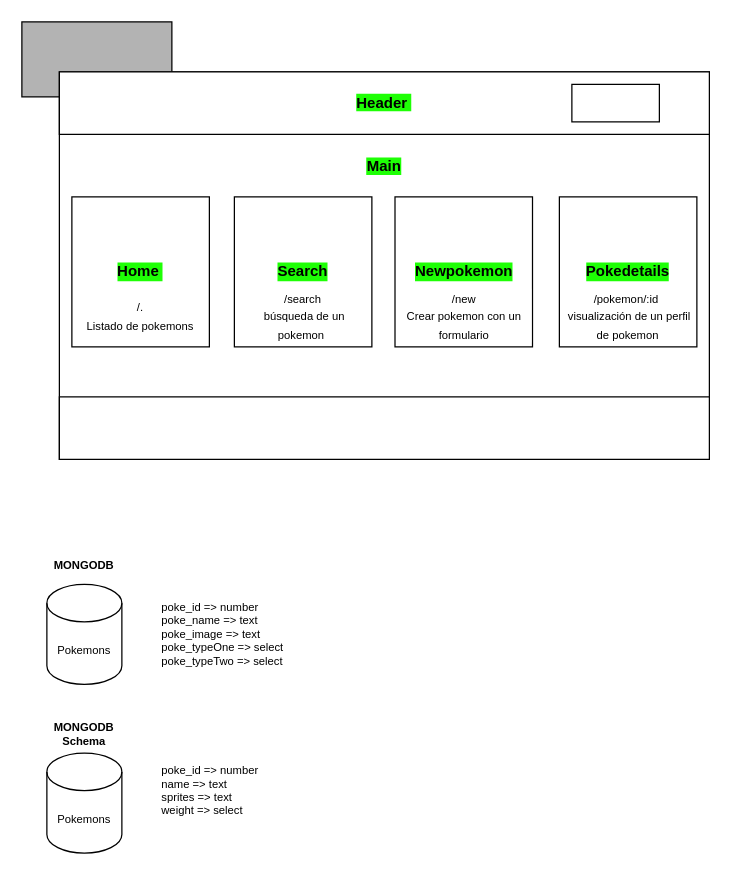
The diagram is 731 pixels wide and 894 high, and some of its shapes have lost their labels. Each missing label, with the centre of its shape:
"Footer" goes at (x=383, y=427).
"Nav" goes at (x=615, y=102).
"PokeStack" goes at (x=96, y=59).
